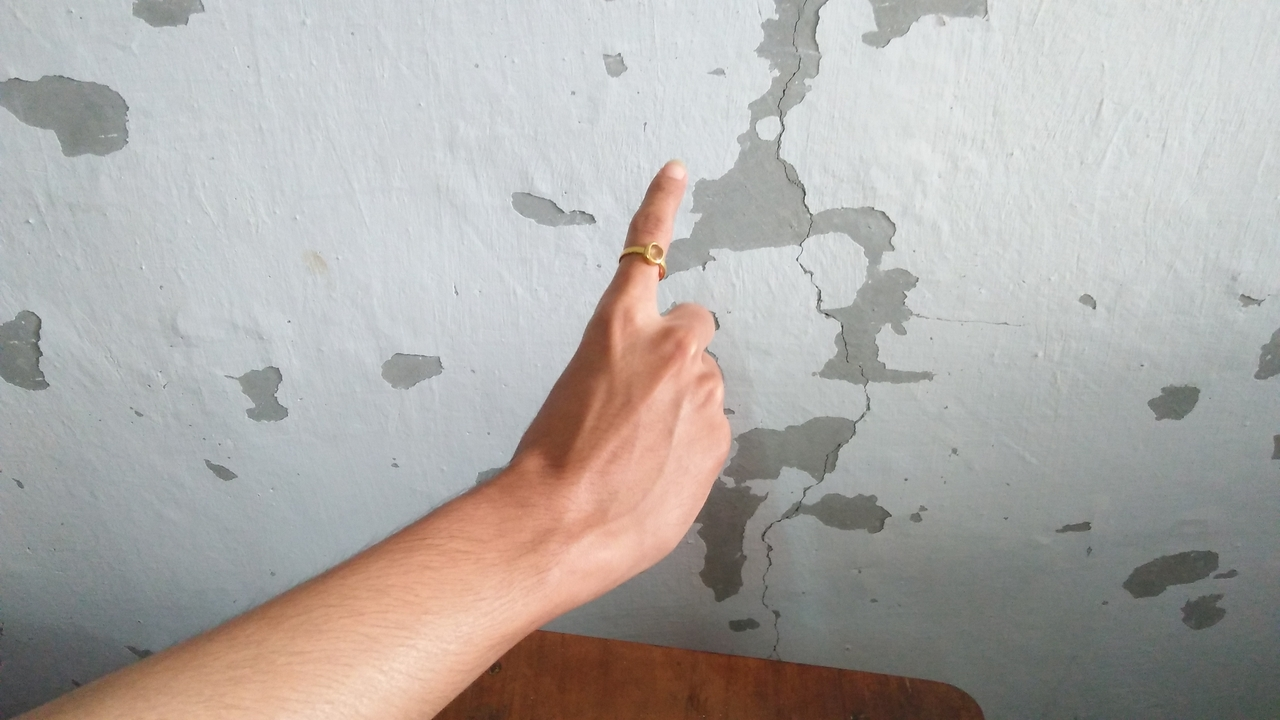fingertip: (640, 142, 698, 192)
